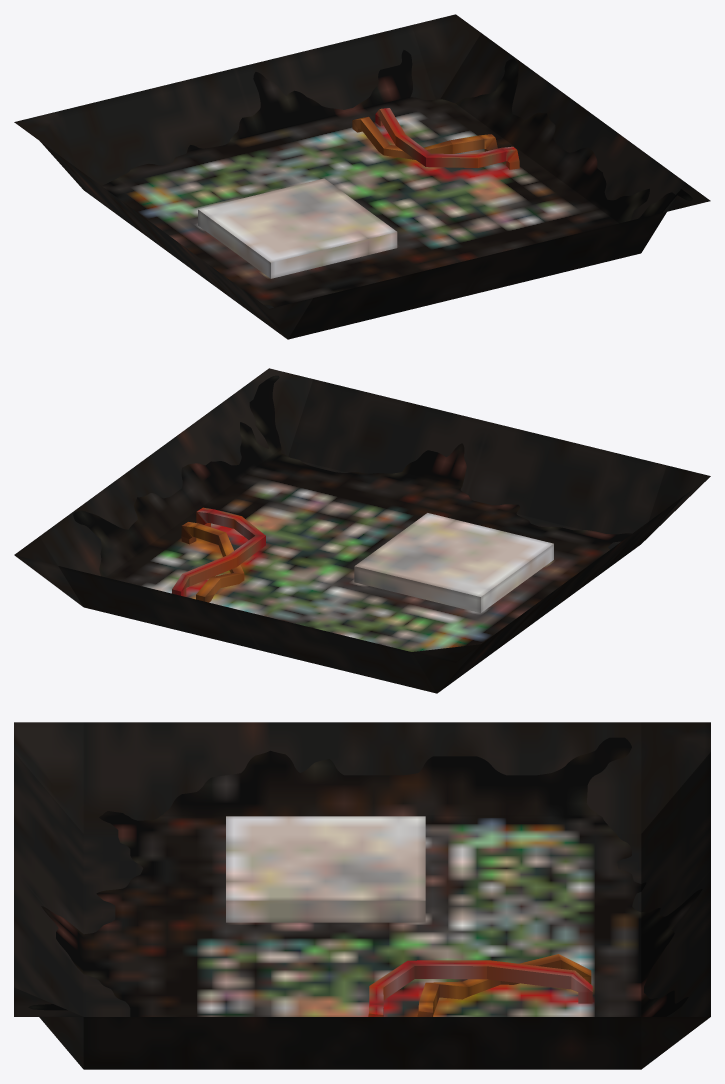
The model's file is Poly_SF_Outside_B_Machine_01.obj.
3 renders of one model, top to bottom at view 1: azimuth 30°, elevation 25°; view 2: azimuth 150°, elevation 25°; view 3: azimuth 270°, elevation 25°, orthographic. The views are drawn at different scales.
Parts seen in each view (by area): view 1: Cube_Cube.001, Cube_Cube.002, Cube_Cube.003; view 2: Cube_Cube.001, Cube_Cube.002, Cube_Cube.003; view 3: Cube_Cube.001, Cube_Cube.002, Cube_Cube.003.
Part boxes in pixels (x1=…): Cube_Cube.001: x1=101, y1=50, x2=692, y2=307; Cube_Cube.002: x1=14, y1=14, x2=710, y2=339; Cube_Cube.003: x1=352, y1=108, x2=519, y2=169; Cube_Cube.001: x1=73, y1=375, x2=631, y2=651; Cube_Cube.002: x1=14, y1=368, x2=710, y2=693; Cube_Cube.003: x1=172, y1=507, x2=265, y2=602; Cube_Cube.001: x1=28, y1=737, x2=702, y2=1016; Cube_Cube.002: x1=14, y1=722, x2=710, y2=1069; Cube_Cube.003: x1=368, y1=954, x2=592, y2=1016.
Bounding box in the file's own units: 1 × 0.1303 × 1.
Materials: 1 (1 with a texture image).
